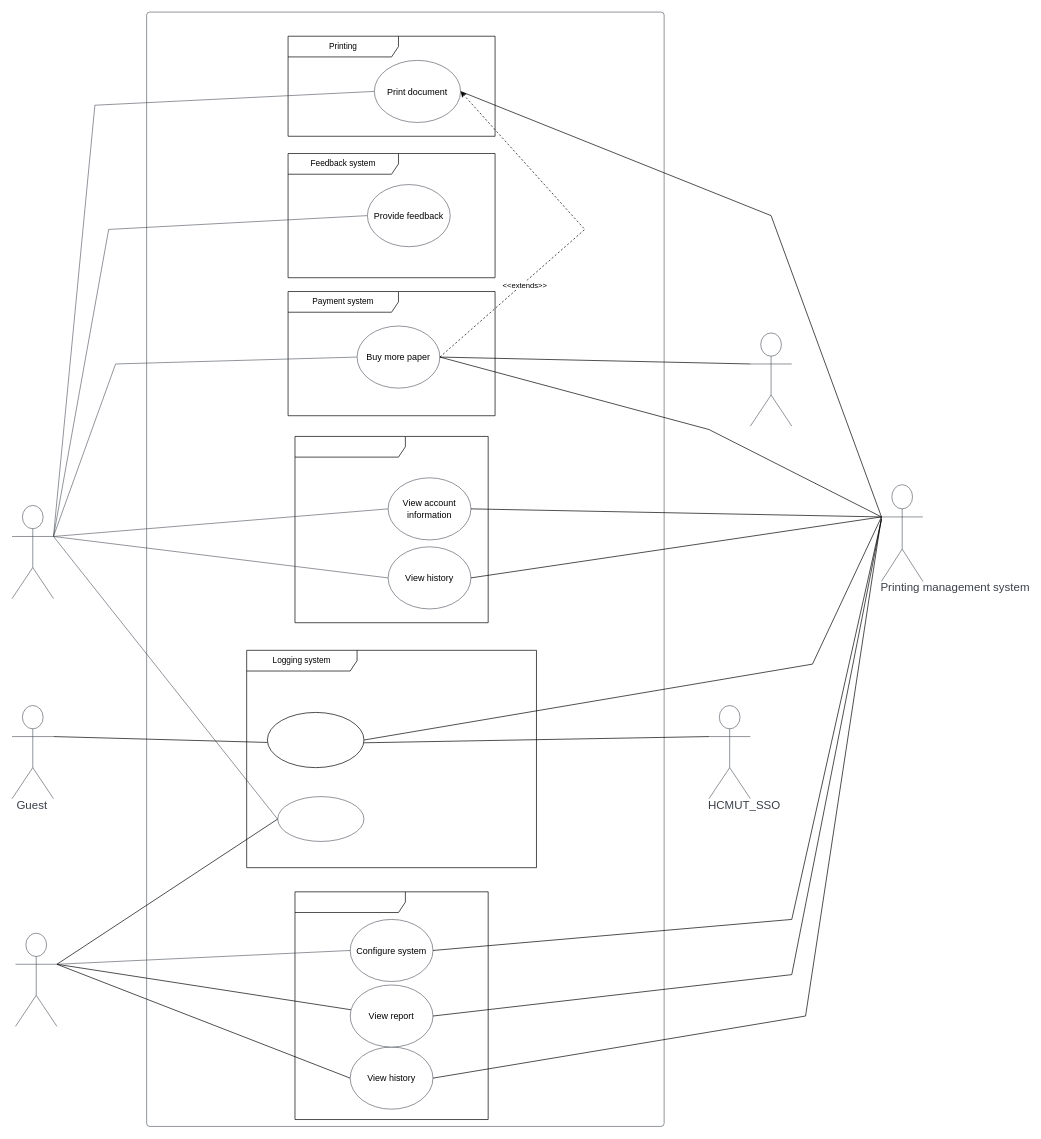
This 1041x1139 diagram has some shape labels left out. Each missing label, with the box of its shape:
Account management: (294, 436, 488, 623)
BKPAY: (750, 332, 792, 426)
Logged-in SPSO: (15, 933, 57, 1026)
Logged-in Student: (11, 505, 53, 599)
Login: (267, 712, 364, 768)
Logout: (277, 796, 364, 841)
System management: (294, 891, 488, 1120)
